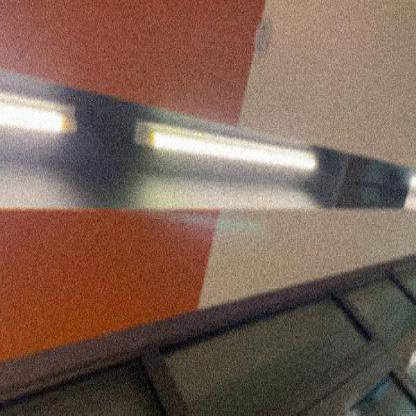light_on: (128, 112, 328, 185), (1, 70, 83, 153), (402, 164, 416, 230)
